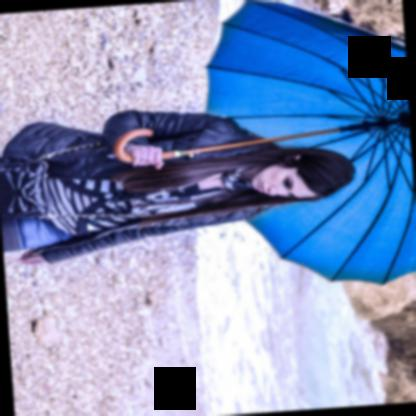handbag: (0, 162, 175, 219), (0, 120, 109, 164)
